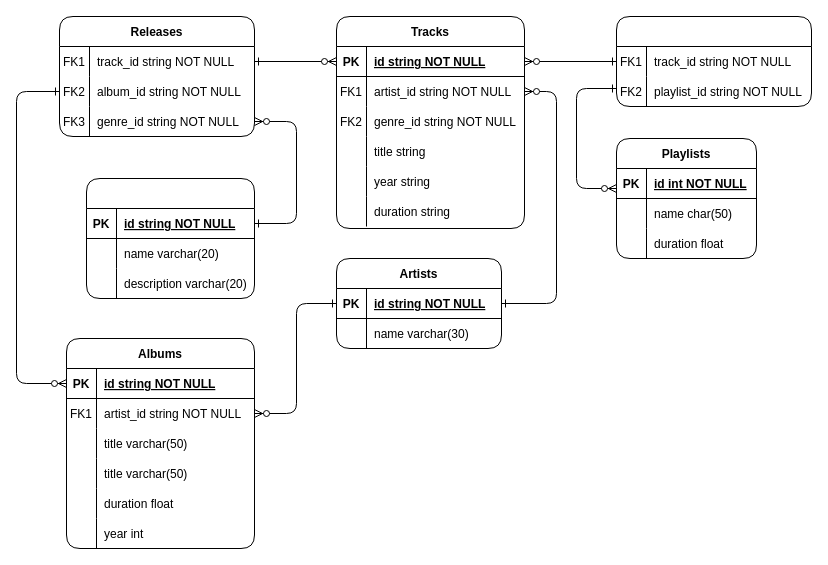
This 828x565 diagram has some shape labels left out. The shapes that lost their labels are listed below. From the top down, each one's box as (x1, y1, x2, y2) in pixels, then its label:
(616, 16, 812, 106): Libraries
(86, 178, 254, 298): Genres
